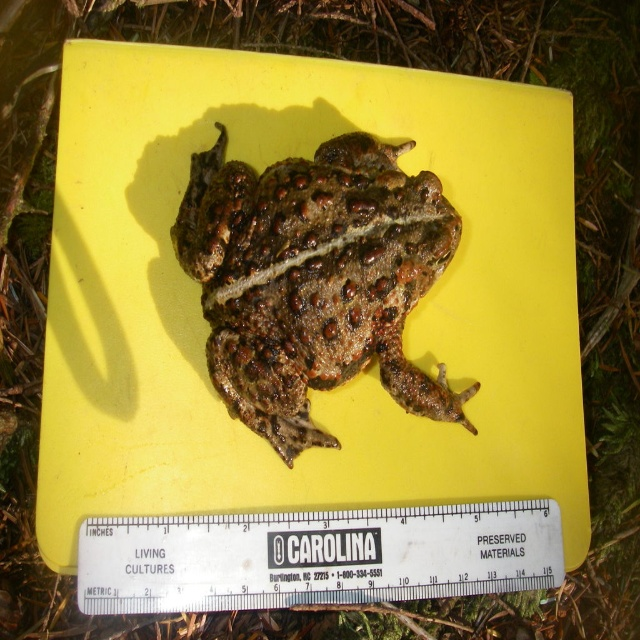Frog: (170, 122, 478, 470)
